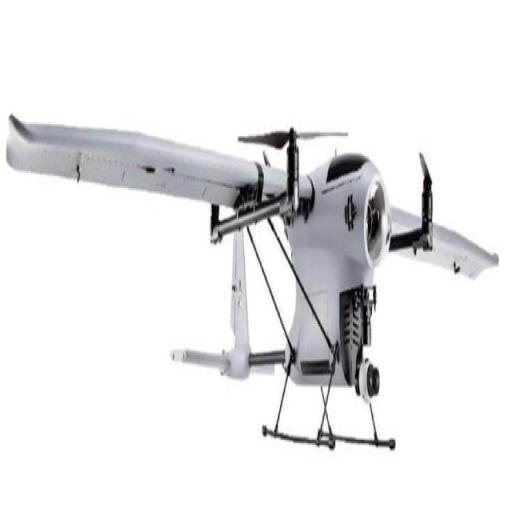uav: (2, 108, 496, 454)
